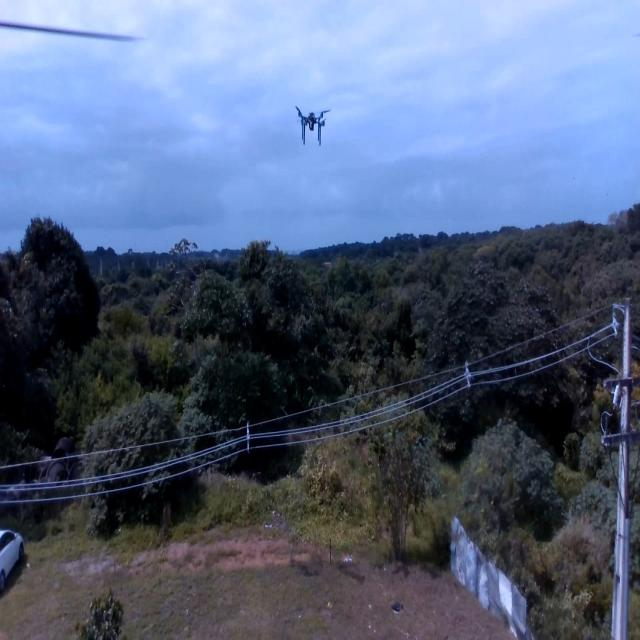-uav-: (290, 86, 332, 153)
